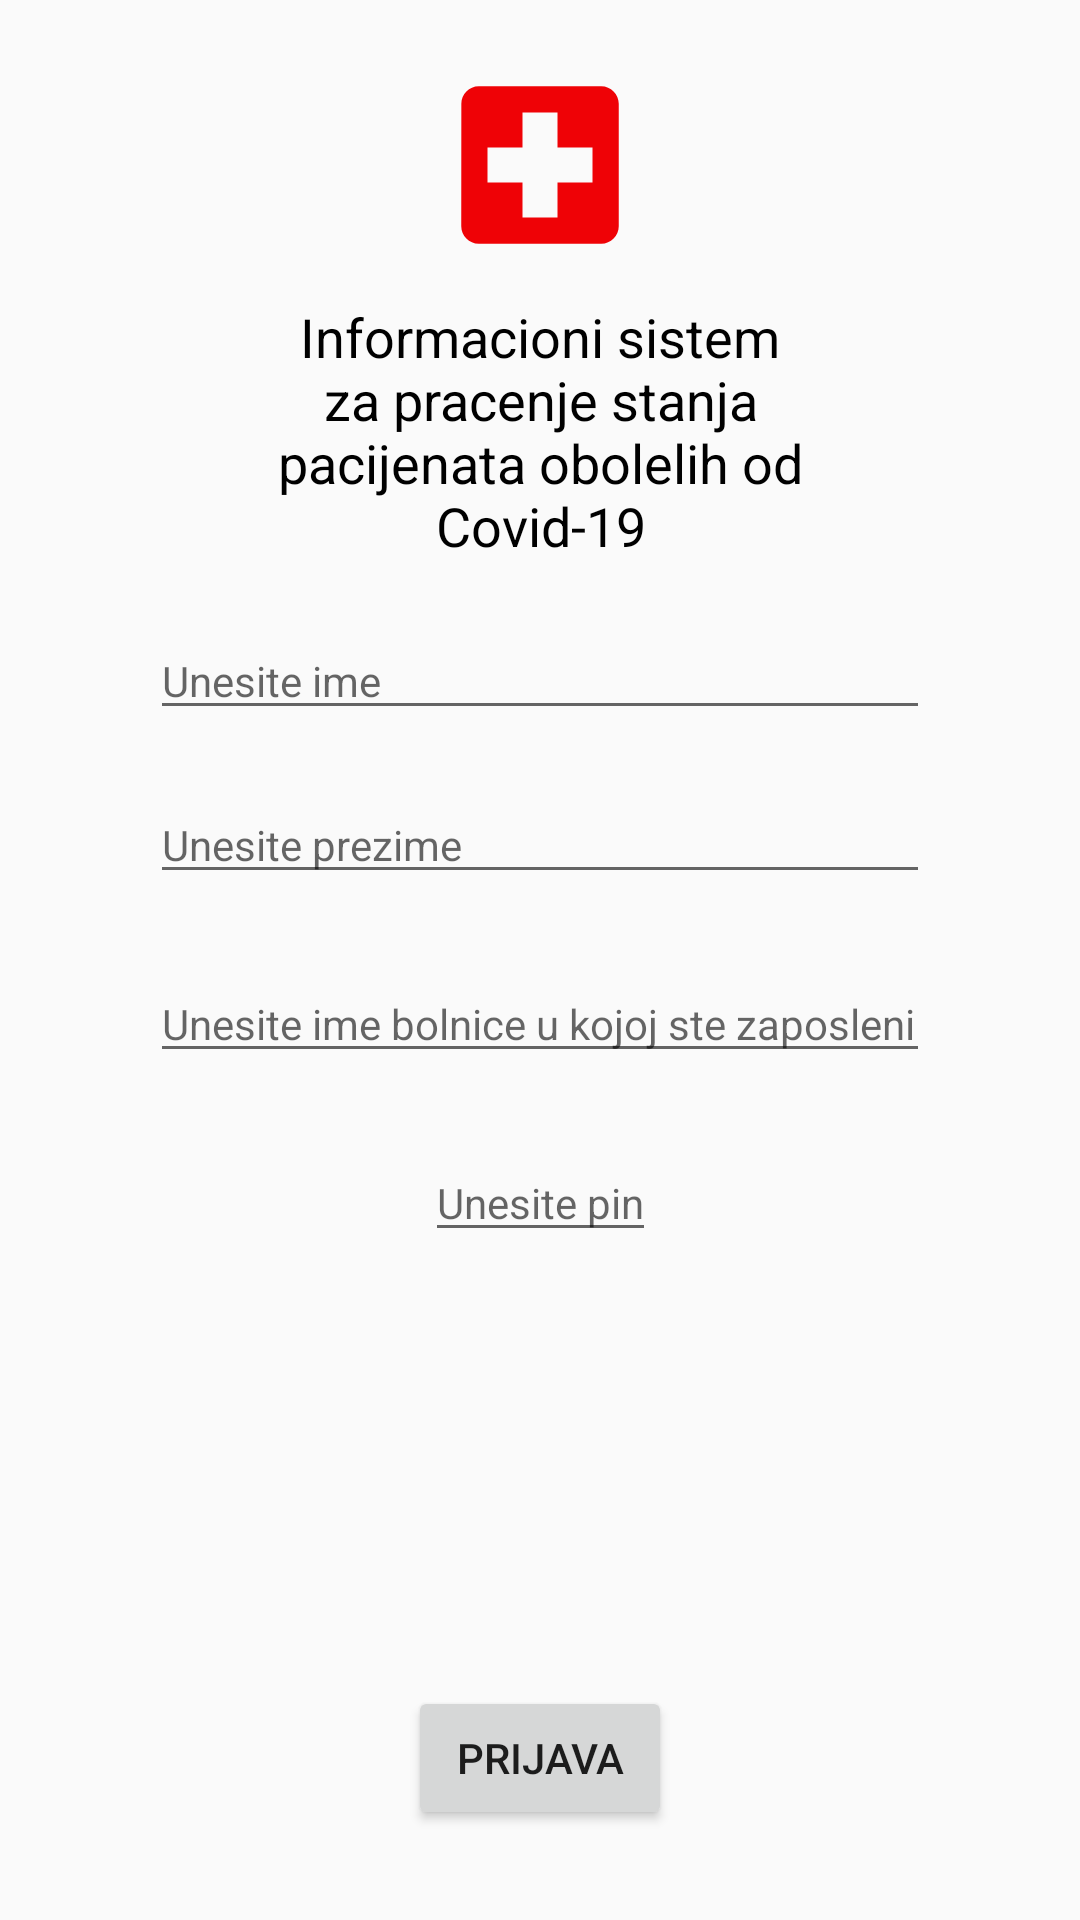

Screen size 1080*1920. Icon name, then its center in pixels as (x,y):
local hospital: (540,165)
